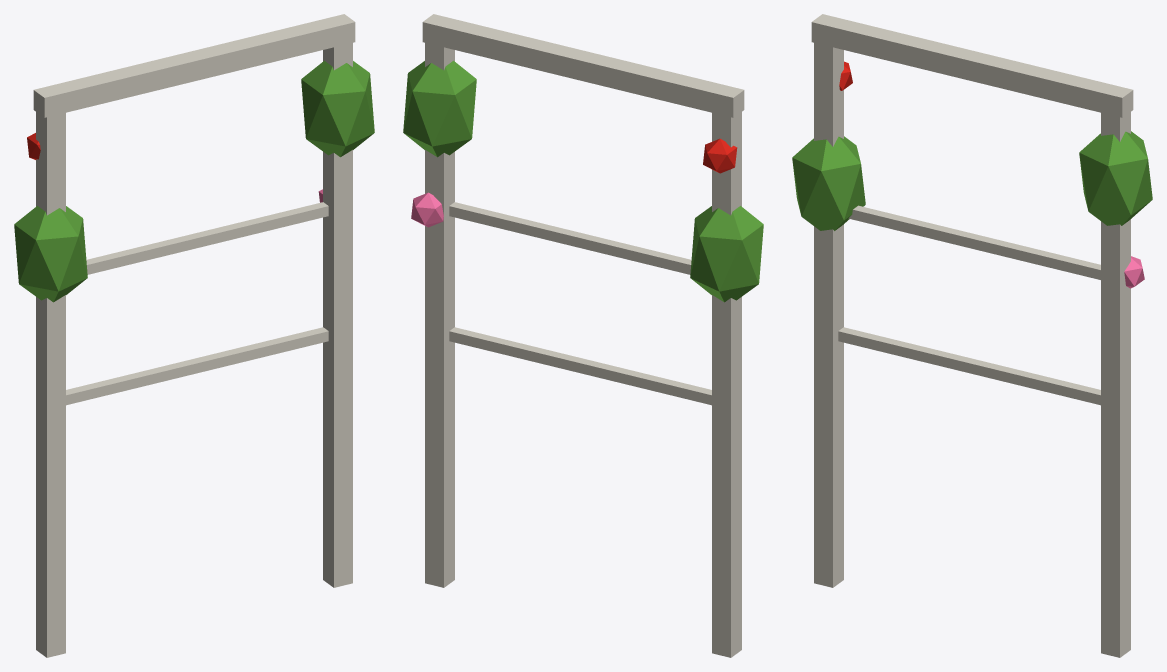
The model's file is patio_trellis_arch.glb.
The picture shows the model from 3 angles, left to right: view 1: azimuth 30°, elevation 25°; view 2: azimuth 150°, elevation 25°; view 3: azimuth 330°, elevation 25°; orthographic projection.
Parts seen in each view (by area): view 1: trellis_arch; view 2: trellis_arch; view 3: trellis_arch.
Boxes of the visible parts, bbox=[...] form: trellis_arch: bbox=[14, 14, 374, 657]; trellis_arch: bbox=[403, 14, 763, 657]; trellis_arch: bbox=[792, 14, 1152, 657].
Bounding box in the file's own units: 1.47 × 2.24 × 0.2552.
